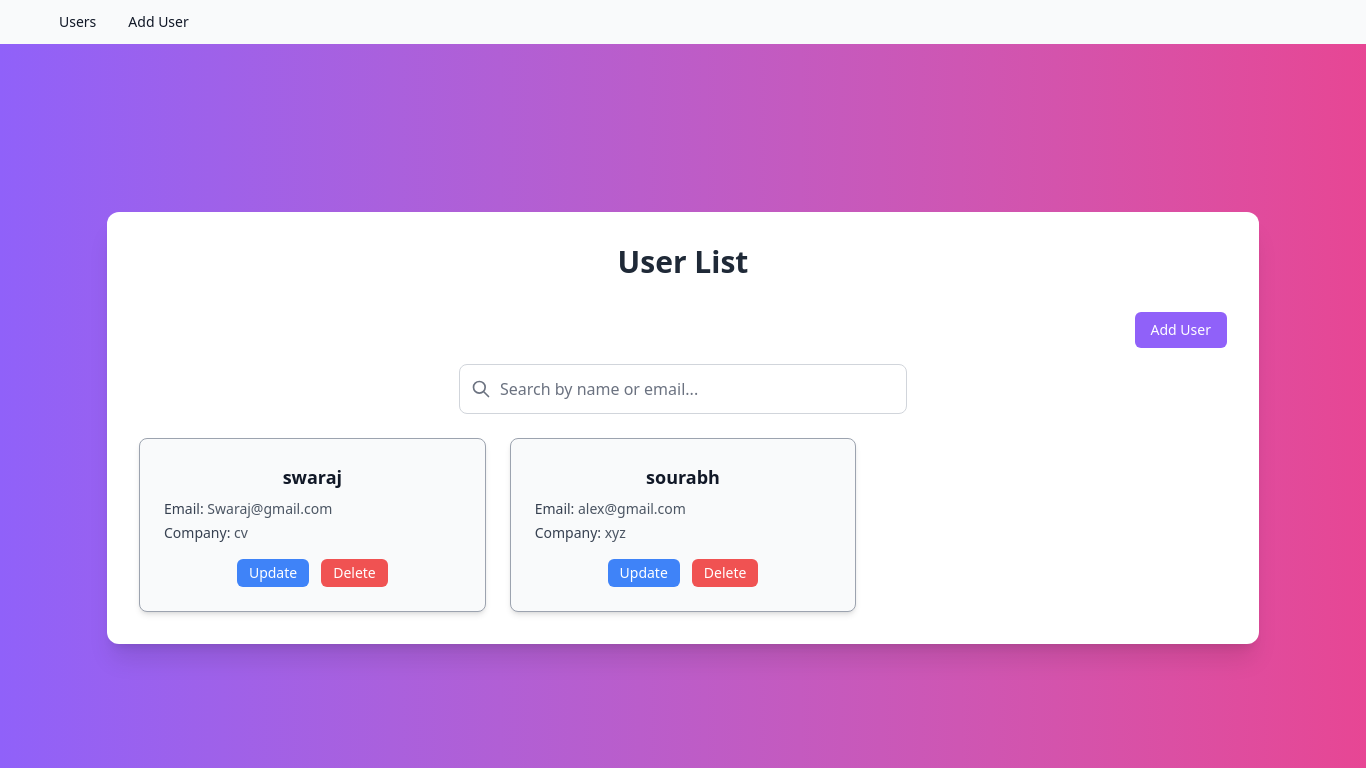
Test: UserList Component › deletes user from the list when delete is confirmed
What coordinates should you click on to do the following:
click the button "Delete" below "cv"
I would click on:
 (354, 573)
Its box is [321,559,388,587].
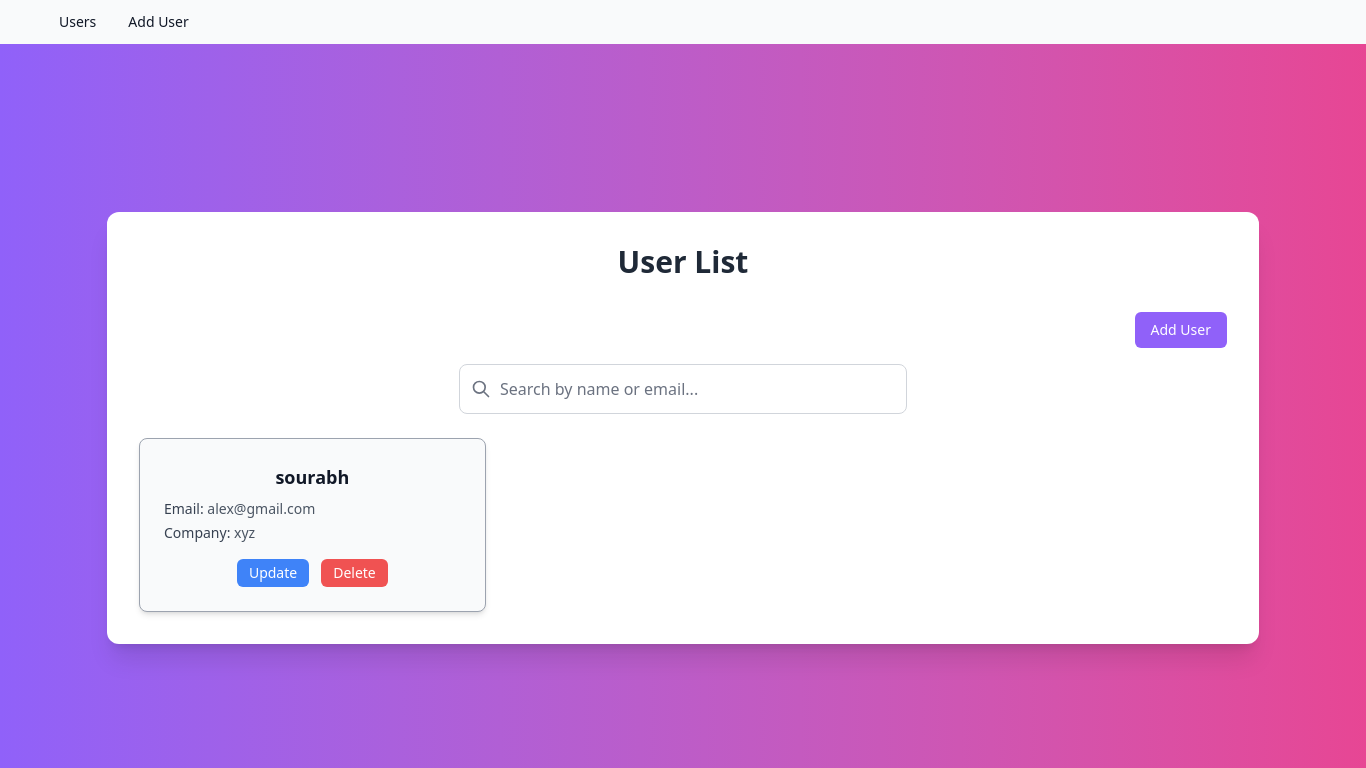
Check: the heading "swaraj" is gone
